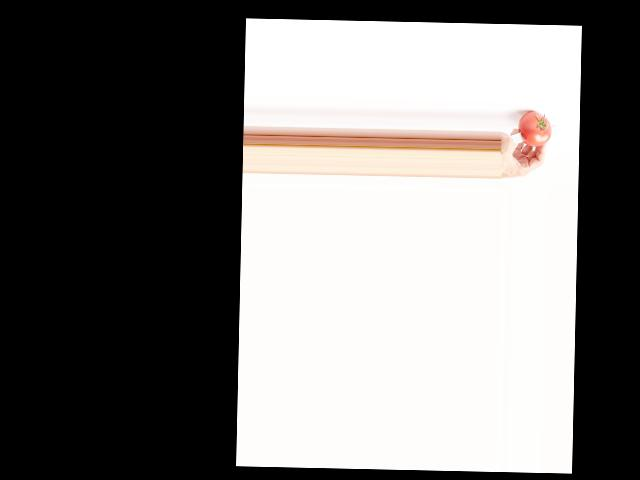tomato: (518, 111, 551, 147)
